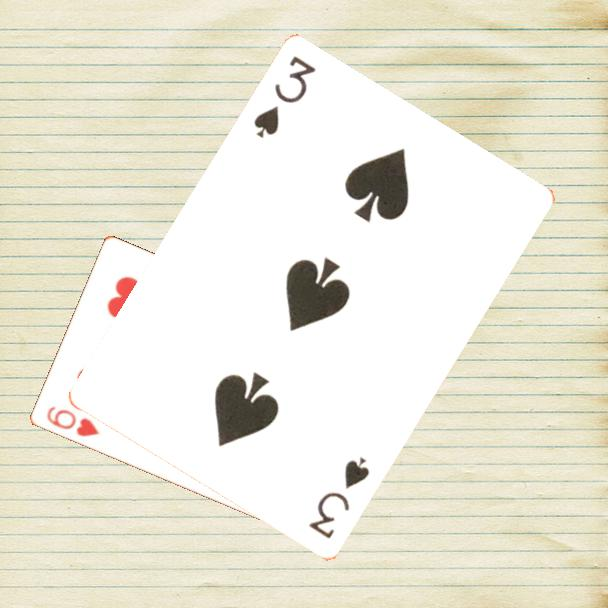h06: (43, 403, 102, 440)
s03: (250, 52, 320, 142), (305, 454, 373, 543)
